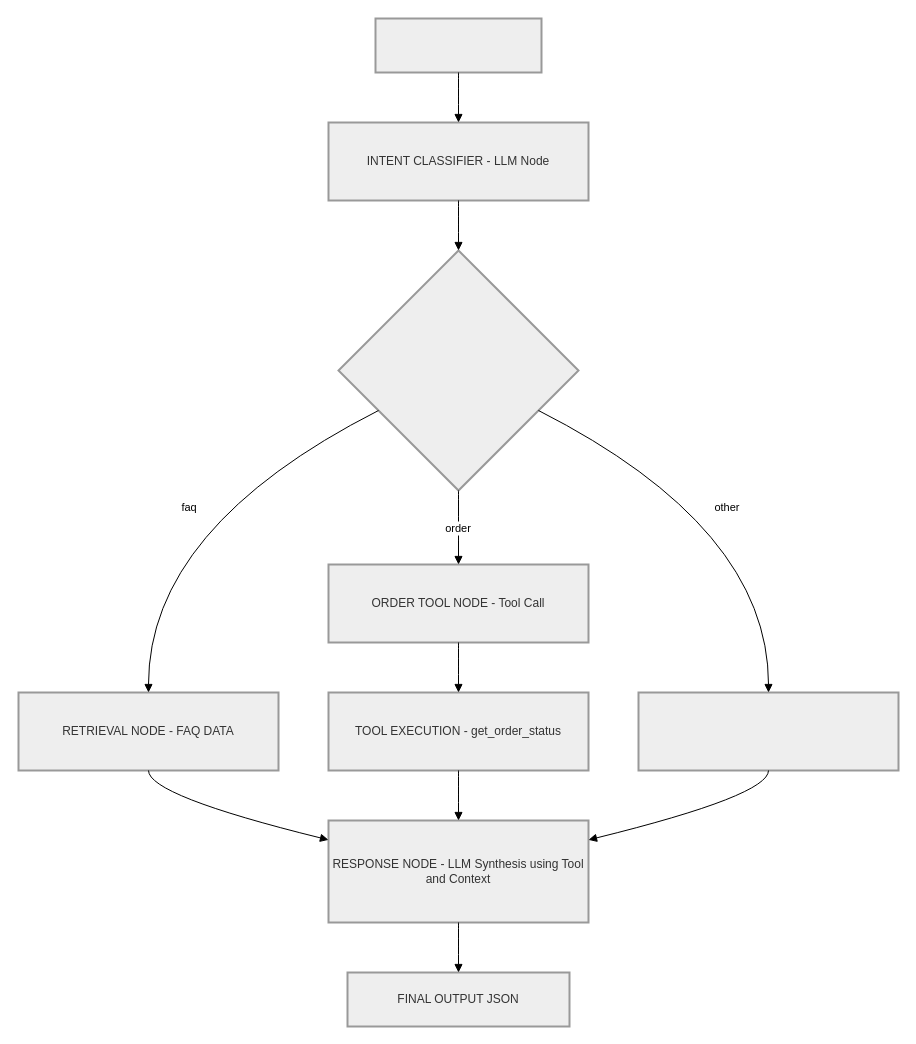
Some shapes in this 916 by 1044 pixel diagram are drawn without their labels. The shapes that lost their labels are listed below. From the top down, each one's box as (x1, y1, x2, y2) in pixels, then its label:
(374, 17, 542, 73): USER QUERY
(337, 249, 579, 491): ROUTER - Decision Logic
(637, 691, 899, 771): FALLBACK LLM - Direct Answer
